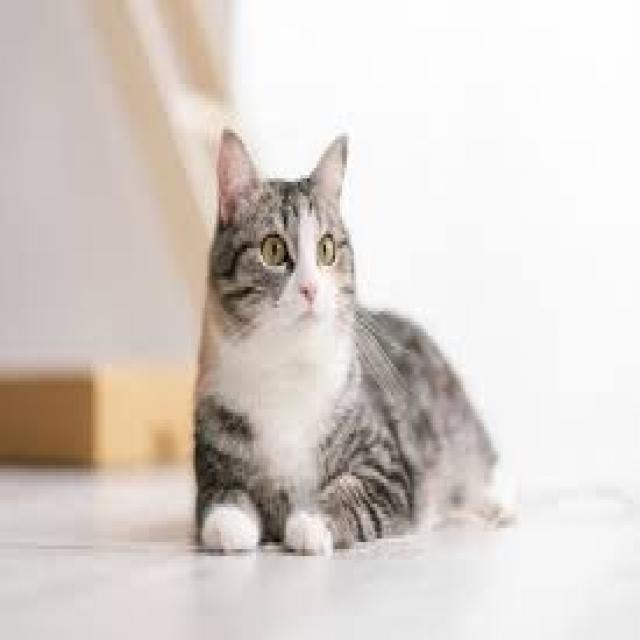Cat: (189, 121, 515, 561)
